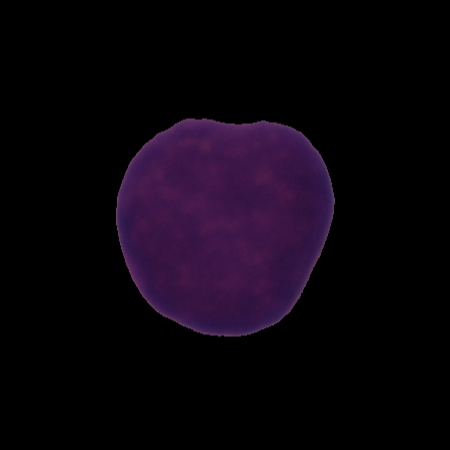HEM: (112, 115, 338, 339)
